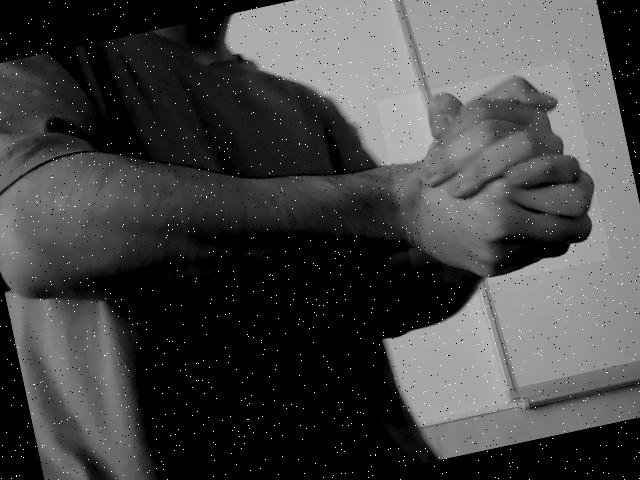friend: (407, 77, 597, 283)
